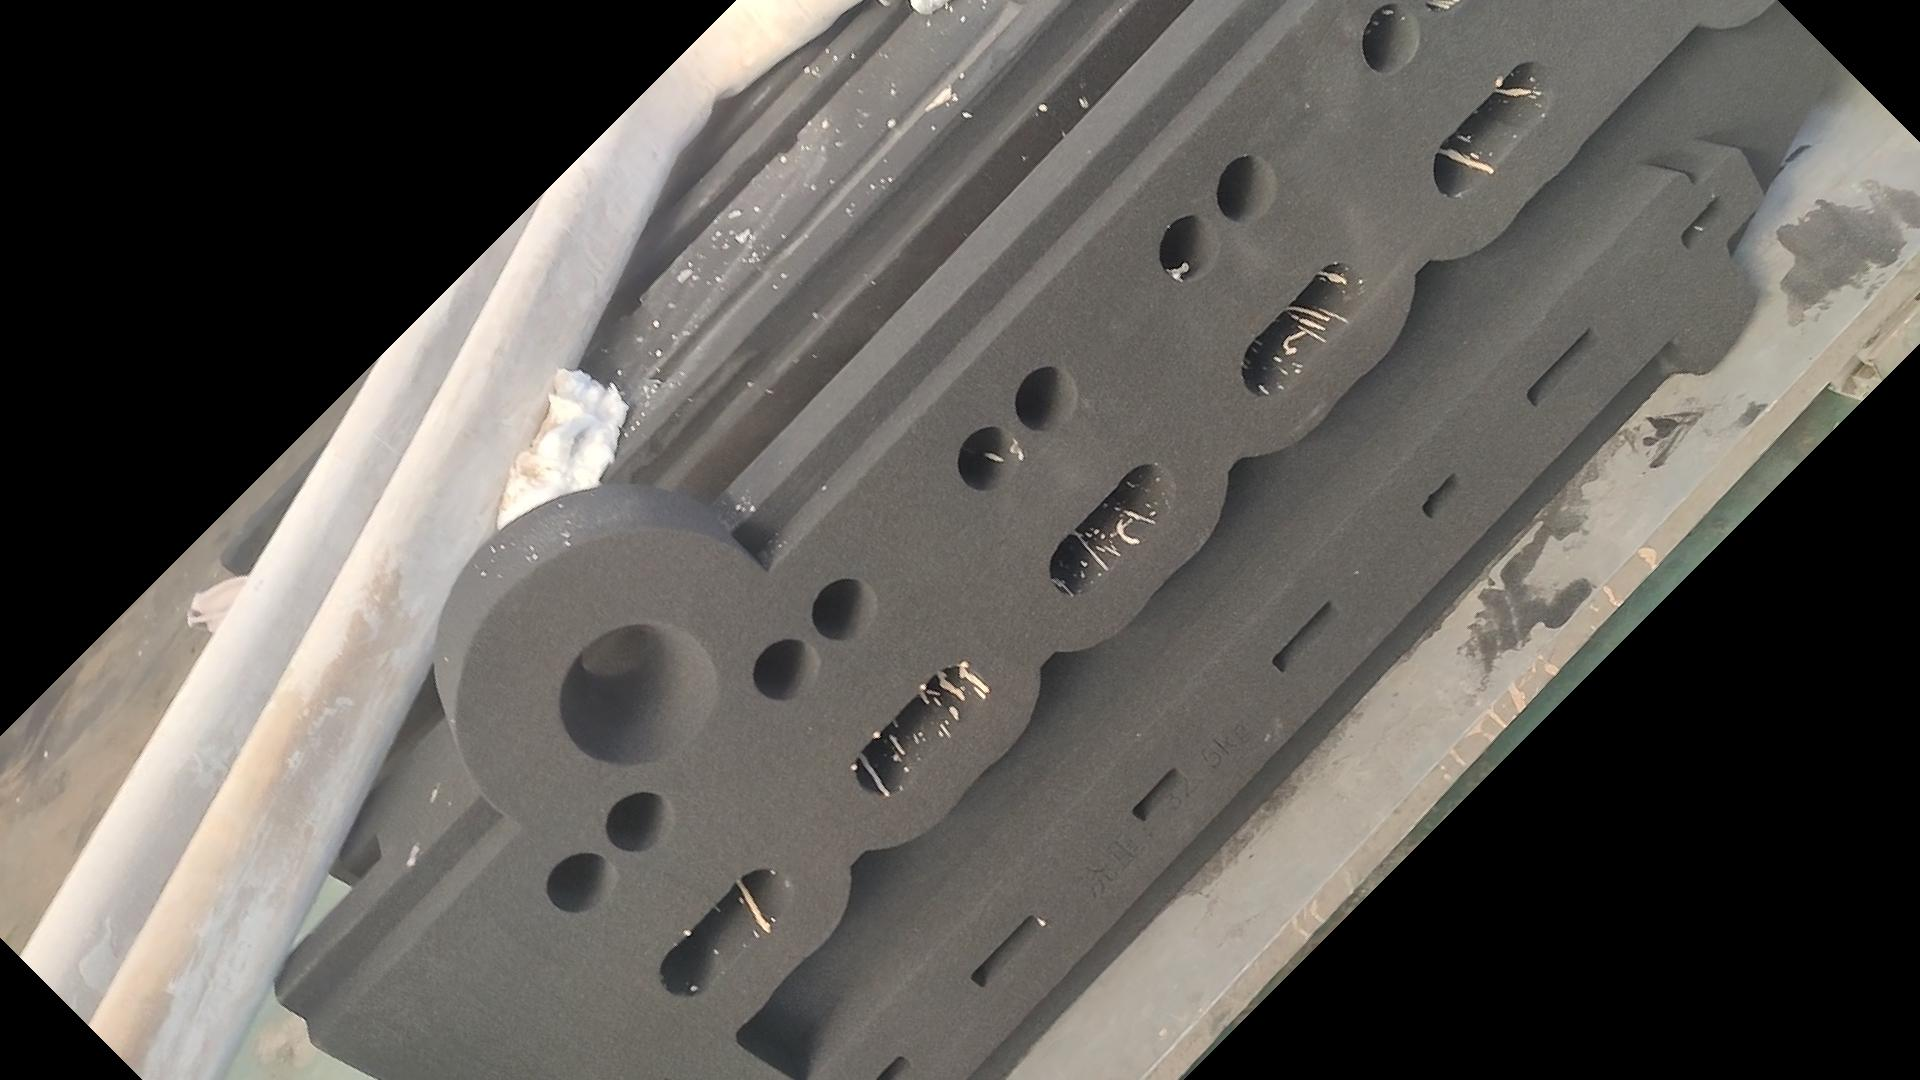pouring hole: (558, 621, 717, 766)
